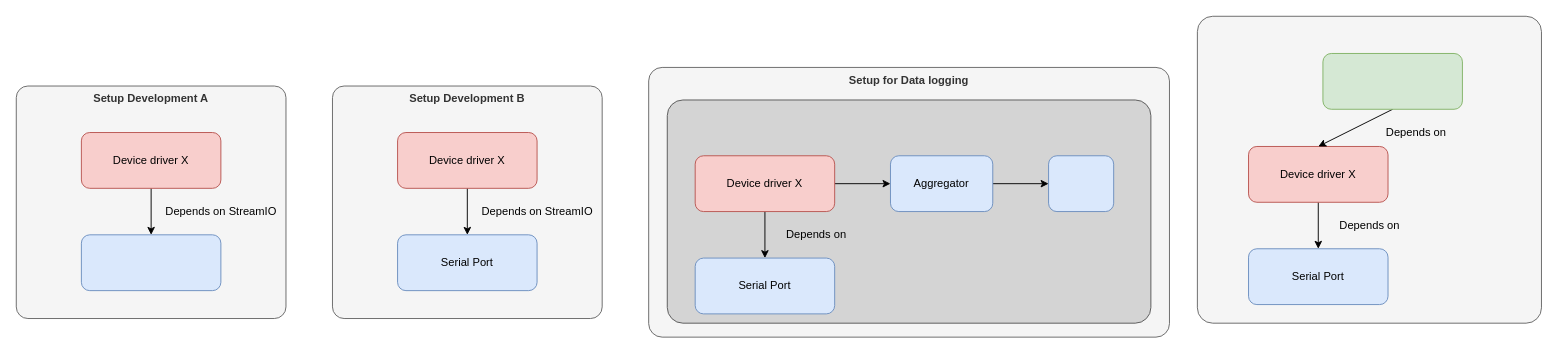
Image size: 1558x353. Some labels were removed from this diagram. Each missing label, with the box of its shape:
Controller: (1322, 53, 1462, 109)
CSV: (1048, 155, 1114, 212)
File reader: (80, 234, 221, 291)
Setup Customer specific inteface: (1196, 15, 1541, 323)
User Inteface: (666, 99, 1151, 323)
